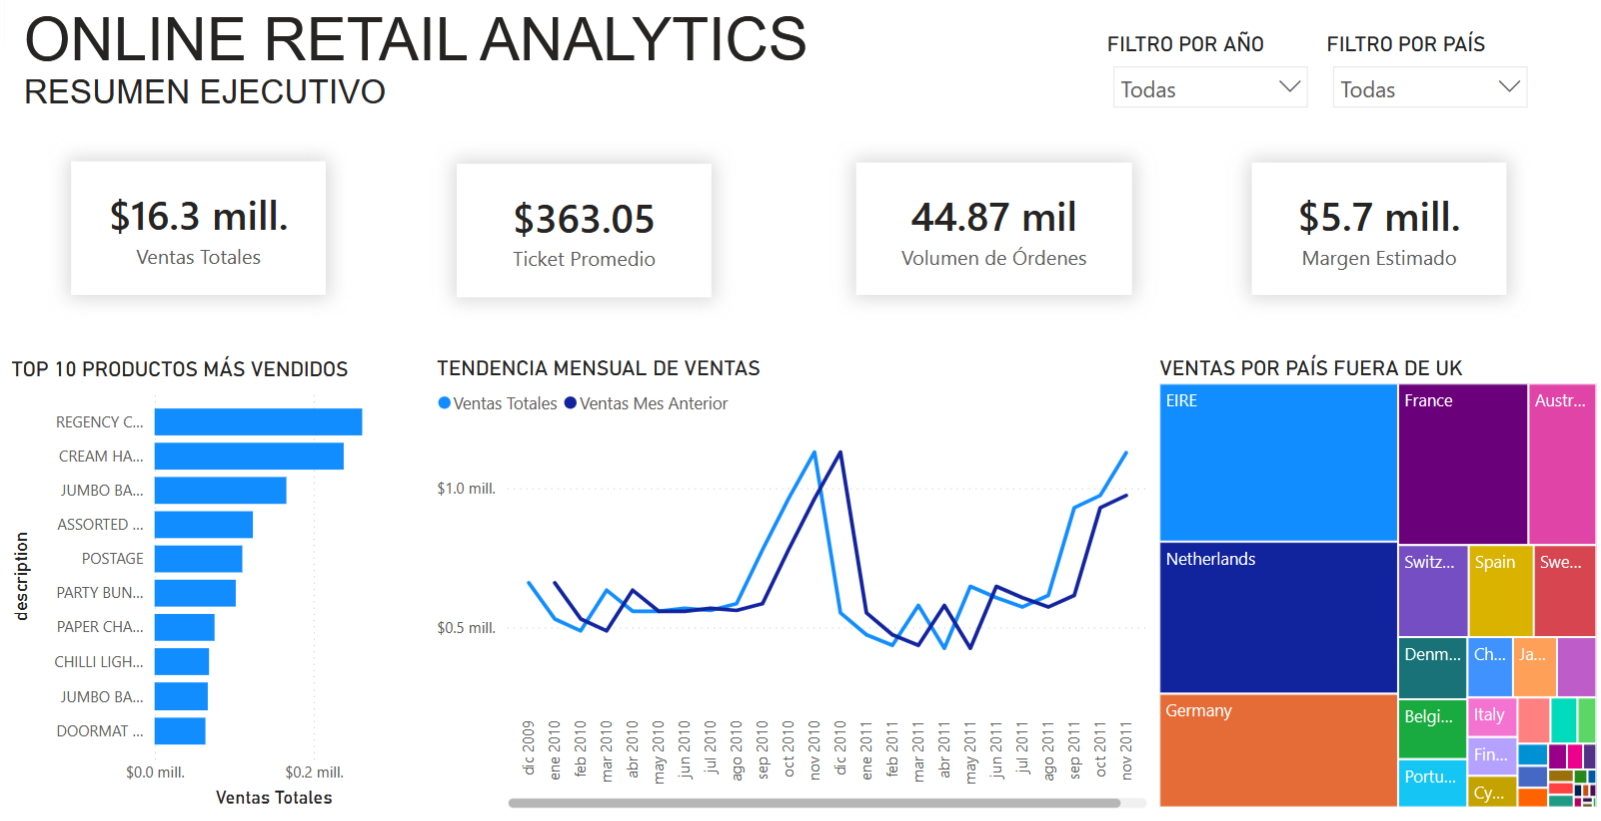

The dashboard page shown, as its layout file describes it:
{"tool":"powerbi","page":{"name":"Resumen Ejecutivo","canvas":[1280,720],"ordinal":0},"visuals":[{"type":"textbox","box":[10.3,0,642.7,98.3],"z":0},{"type":"cardVisual","fields":{"Data":["_Medidas.Ventas Totales"]},"box":[52.5,130.1,204,107.1],"z":1000},{"type":"cardVisual","fields":{"Data":["_Medidas.Ticket Promedio"]},"box":[362.2,131.6,204,107.1],"z":2000},{"type":"cardVisual","fields":{"Data":["_Medidas.Volumen de Órdenes"]},"box":[682.3,130.6,220.2,106.3],"z":3000},{"type":"cardVisual","fields":{"Data":["_Medidas.Margen Estimado"]},"box":[998.5,130.6,204.8,106.3],"z":4000},{"type":"barChart","title":"TOP 10 PRODUCTOS MÁS VENDIDOS","fields":{"Y":["_Medidas.Ventas Totales"],"Category":["dim_producto.description"]},"box":[-0.3,285.5,340.5,366.1],"z":5000},{"type":"slicer","title":"FILTRO POR AÑO","fields":{"Values":["dim_tiempo.year"]},"box":[877.5,26.4,176.1,71.9],"z":6000},{"type":"slicer","title":"FILTRO POR PAÍS","fields":{"Values":["dim_geografia.country"]},"box":[1053.6,26.4,176.1,71.9],"z":7000},{"type":"treemap","title":"VENTAS POR PAÍS FUERA DE UK","fields":{"Values":["_Medidas.Ventas Totales"],"Group":["dim_geografia.country"]},"box":[920.4,285.5,359.7,366.1],"z":8000},{"type":"lineChart","title":"TENDENCIA MENSUAL DE VENTAS","fields":{"Y":["_Medidas.Ventas Totales","_Medidas.Ventas Mes Anterior"],"Category":["dim_tiempo.Mes Año"]},"box":[340.5,285.5,579.9,366.1],"z":9000}]}

Visuals, with their boxes on the page's 1280x720 design canvas (x1, y1, x2, y2). These are canvas units, not pixel positions in the 1601x821 screenshot, which may show the page scaled, cropped or inside an application window:
textbox: {"x1": 10, "y1": 0, "x2": 653, "y2": 98}
cardVisual - _Medidas.Ventas Totales: {"x1": 52, "y1": 130, "x2": 256, "y2": 237}
cardVisual - _Medidas.Ticket Promedio: {"x1": 362, "y1": 132, "x2": 566, "y2": 239}
cardVisual - _Medidas.Volumen de Órdenes: {"x1": 682, "y1": 131, "x2": 902, "y2": 237}
cardVisual - _Medidas.Margen Estimado: {"x1": 998, "y1": 131, "x2": 1203, "y2": 237}
"TOP 10 PRODUCTOS MÁS VENDIDOS" barChart: {"x1": 0, "y1": 286, "x2": 340, "y2": 652}
"FILTRO POR AÑO" slicer: {"x1": 878, "y1": 26, "x2": 1054, "y2": 98}
"FILTRO POR PAÍS" slicer: {"x1": 1054, "y1": 26, "x2": 1230, "y2": 98}
"VENTAS POR PAÍS FUERA DE UK" treemap: {"x1": 920, "y1": 286, "x2": 1280, "y2": 652}
"TENDENCIA MENSUAL DE VENTAS" lineChart: {"x1": 340, "y1": 286, "x2": 920, "y2": 652}
